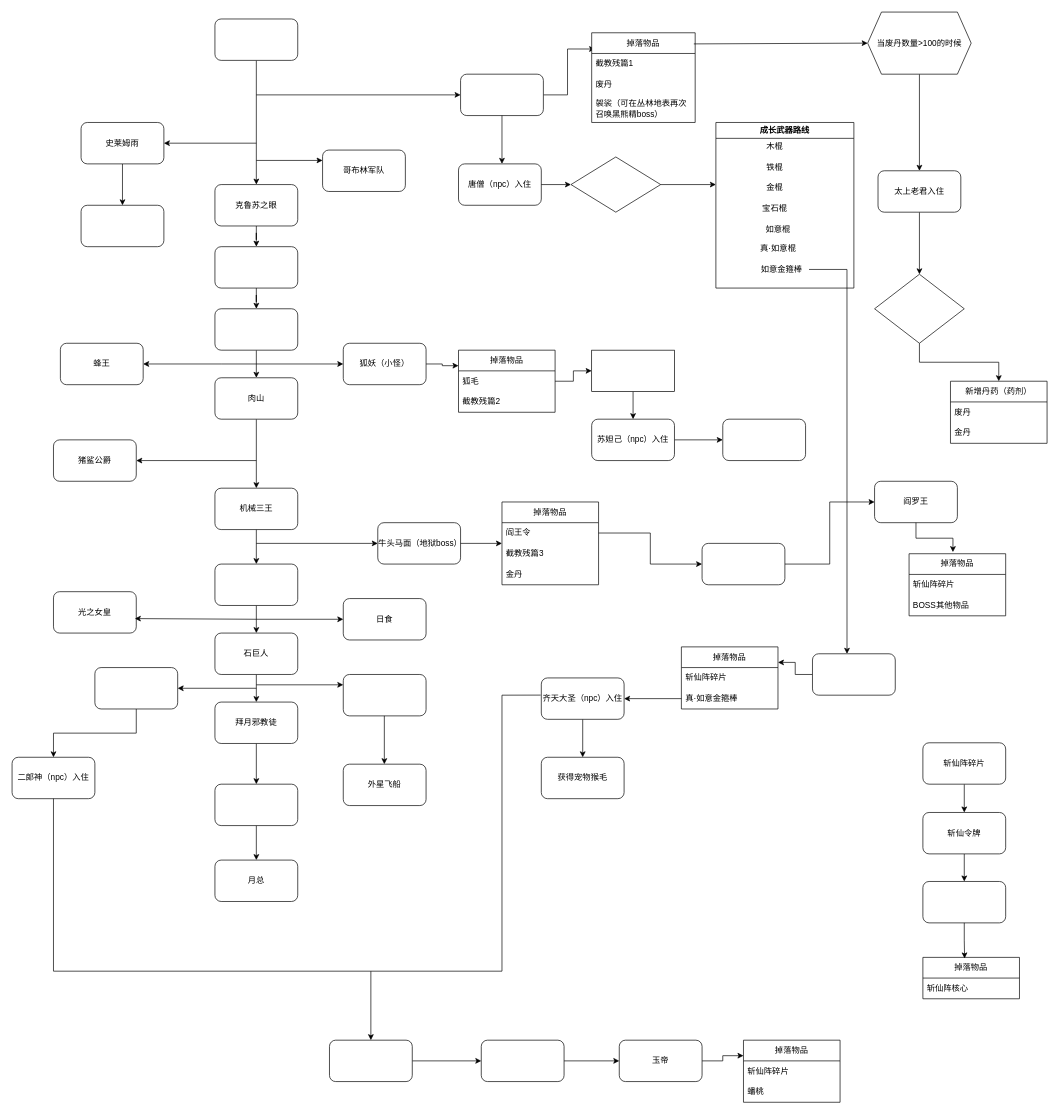
The diagram is 1059 pixels wide and 1114 high, and some of its shapes have lost their labels. The shapes that lost their labels are listed below. From the top down, each one's centre as x and y in pixels, then its label:
At pixel 256 39: "开始游戏".
At pixel 501 94: "黑熊精".
At pixel 615 184: "获得成长武器木棍".
At pixel 122 226: "史莱姆之王".
At pixel 256 267: "世界吞噬者/猩红大脑".
At pixel 919 308: "获得炼丹炉".
At pixel 256 329: "骷髅王".
At pixel 632 370: "九尾狐".
At pixel 764 439: "购买宠物以及时装".
At pixel 256 584: "世纪之花".
At pixel 743 564: "地府入侵（事件）".
At pixel 136 688: "哮天犬".
At pixel 853 674: "在海边钓鱼可触发boss东海龙王".
At pixel 384 695: "外星人入侵".
At pixel 256 804: "四柱".
At pixel 964 902: "boss通天教主".
At pixel 370 1060: "哪吒（npc）入住".
At pixel 522 1060: "事件攻上天庭".
